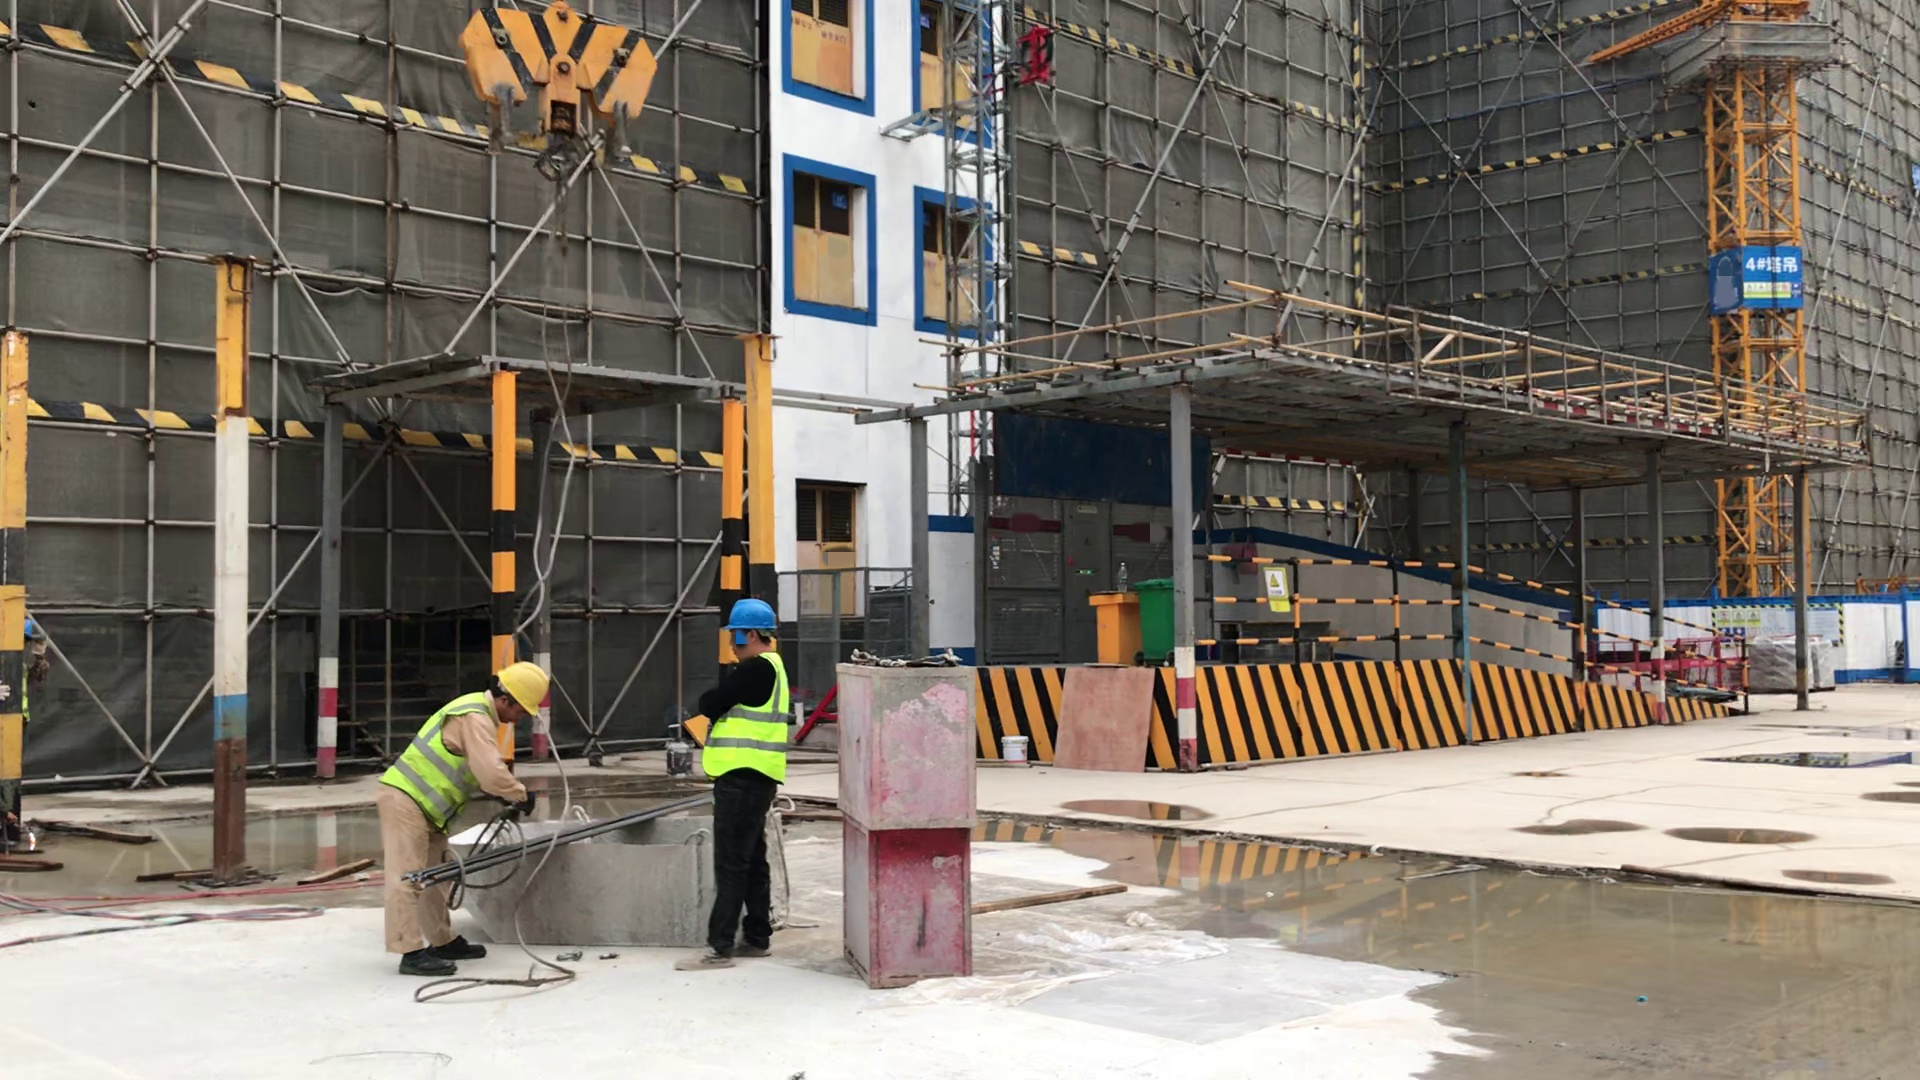fence: (1184, 539, 1763, 707)
helmet: (469, 645, 559, 739), (719, 589, 792, 658), (20, 617, 39, 642)
hook: (440, 1, 704, 232)
hopper: (427, 804, 813, 978)
person: (377, 631, 573, 996), (685, 585, 817, 974), (18, 615, 57, 743)
rebar: (399, 811, 675, 900)
slogan: (1700, 227, 1819, 330), (1715, 601, 1850, 664), (1252, 559, 1300, 622)
vest: (382, 688, 502, 843), (710, 646, 801, 785), (19, 661, 36, 728)
